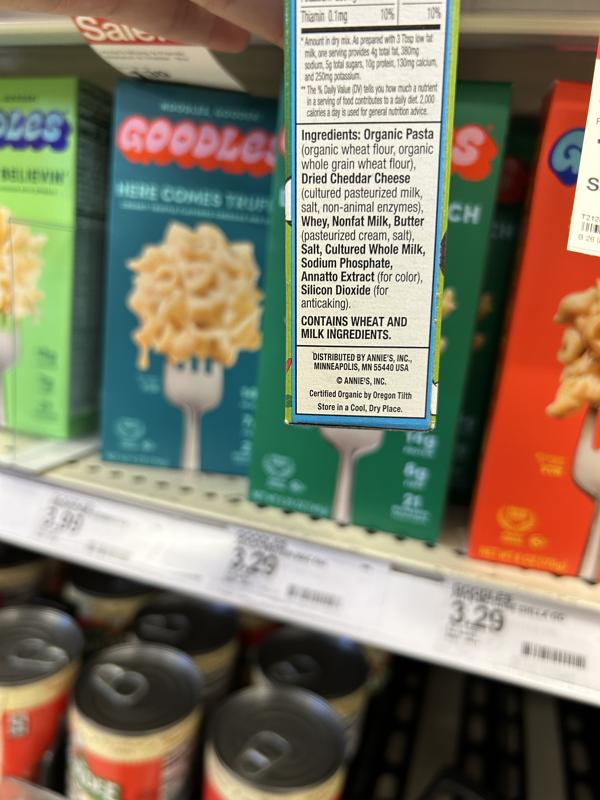ingredients: (299, 126, 436, 310)
